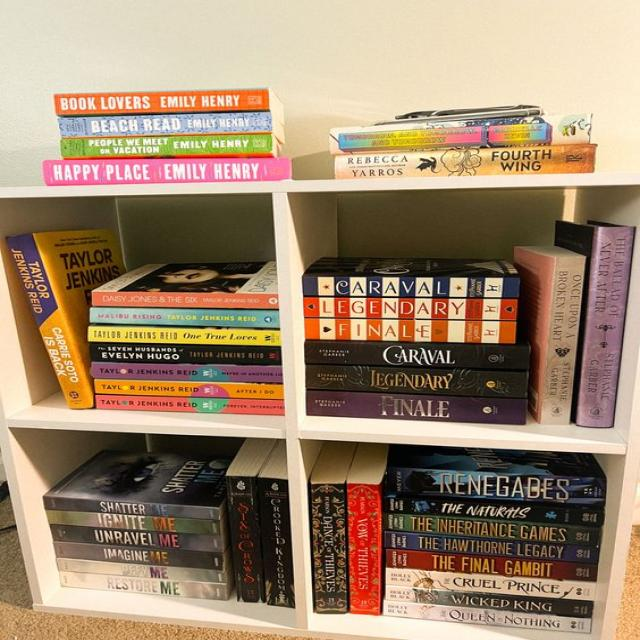book: (3, 233, 93, 410), (579, 227, 635, 427), (330, 114, 593, 156), (386, 467, 608, 507), (334, 146, 595, 179), (539, 257, 586, 424), (306, 363, 527, 398), (382, 513, 603, 546), (307, 393, 525, 426), (383, 532, 600, 564), (382, 496, 605, 527), (383, 601, 592, 634), (386, 567, 595, 600), (386, 585, 594, 618), (387, 549, 599, 581), (305, 341, 531, 370), (43, 160, 292, 186), (56, 88, 270, 114), (58, 113, 271, 139), (306, 319, 516, 344), (60, 134, 273, 158), (258, 477, 295, 608), (303, 276, 520, 298), (54, 542, 224, 570), (304, 299, 517, 321), (227, 476, 264, 602), (50, 525, 222, 552), (60, 573, 226, 600), (347, 484, 381, 615), (45, 510, 222, 535), (312, 484, 346, 613), (56, 559, 227, 583), (92, 361, 283, 382), (86, 326, 280, 346), (89, 308, 279, 328), (96, 395, 285, 415), (43, 498, 222, 519), (90, 344, 281, 363), (95, 380, 285, 399), (92, 292, 280, 309)
